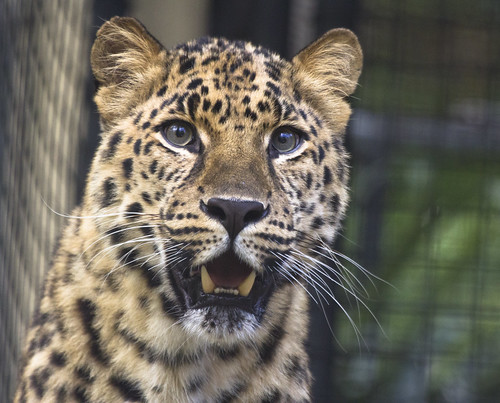amur_leopard: (66, 1, 373, 374)
